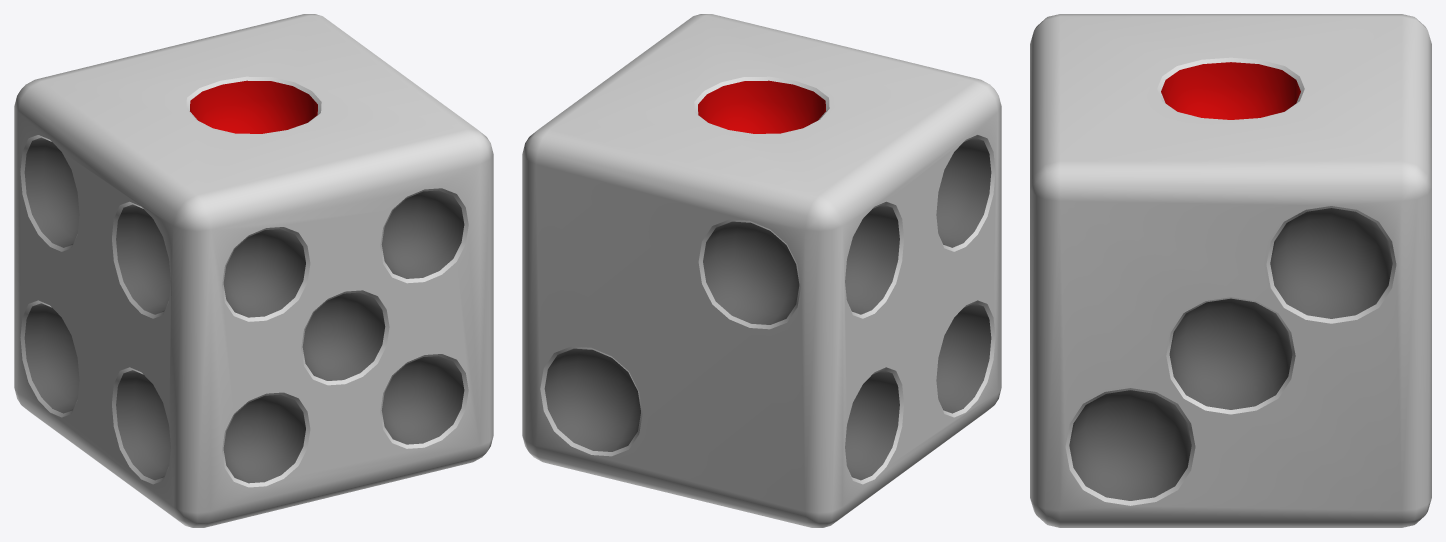
The model's file is Dice.fbx.
3 views of the same model, side by side, from view 1: azimuth 30°, elevation 25°; view 2: azimuth 150°, elevation 25°; view 3: azimuth 270°, elevation 25° (orthographic). The views are drawn at different scales.
Parts seen in each view (by area): view 1: Dice_geo; view 2: Dice_geo; view 3: Dice_geo.
Part boxes in pixels (<box>): Dice_geo: <box>14,14,493,527</box>; Dice_geo: <box>522,14,1001,527</box>; Dice_geo: <box>1030,14,1431,527</box>.
Size of the model in its own units: 100 by 100 by 100.
